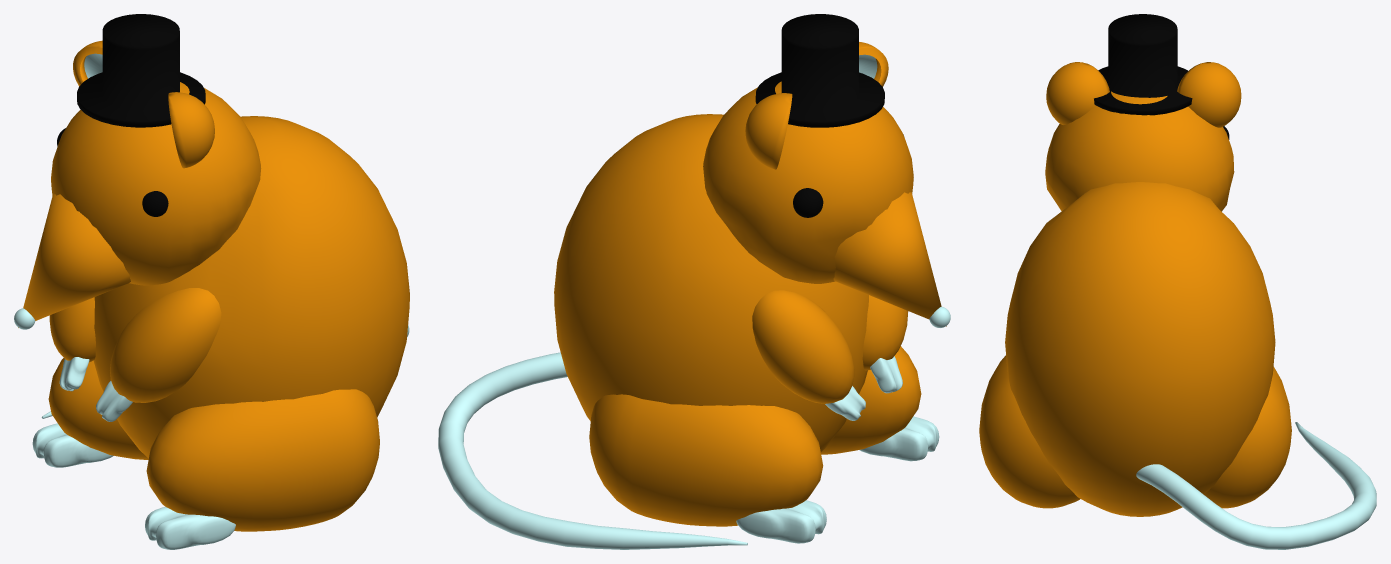
File: rat - joined gold.fbx
3 views of the same model, side by side, from view 1: azimuth 30°, elevation 25°; view 2: azimuth 150°, elevation 25°; view 3: azimuth 270°, elevation 25° (orthographic). The views are drawn at different scales.
Visible parts, largest first — view 1: rat gold; view 2: rat gold; view 3: rat gold.
Part boxes in pixels (x1,y1,x2,y2): rat gold: (14, 14, 409, 549); rat gold: (438, 14, 950, 549); rat gold: (979, 14, 1376, 549).
Size of the model in its own units: 338 by 351 by 294.
